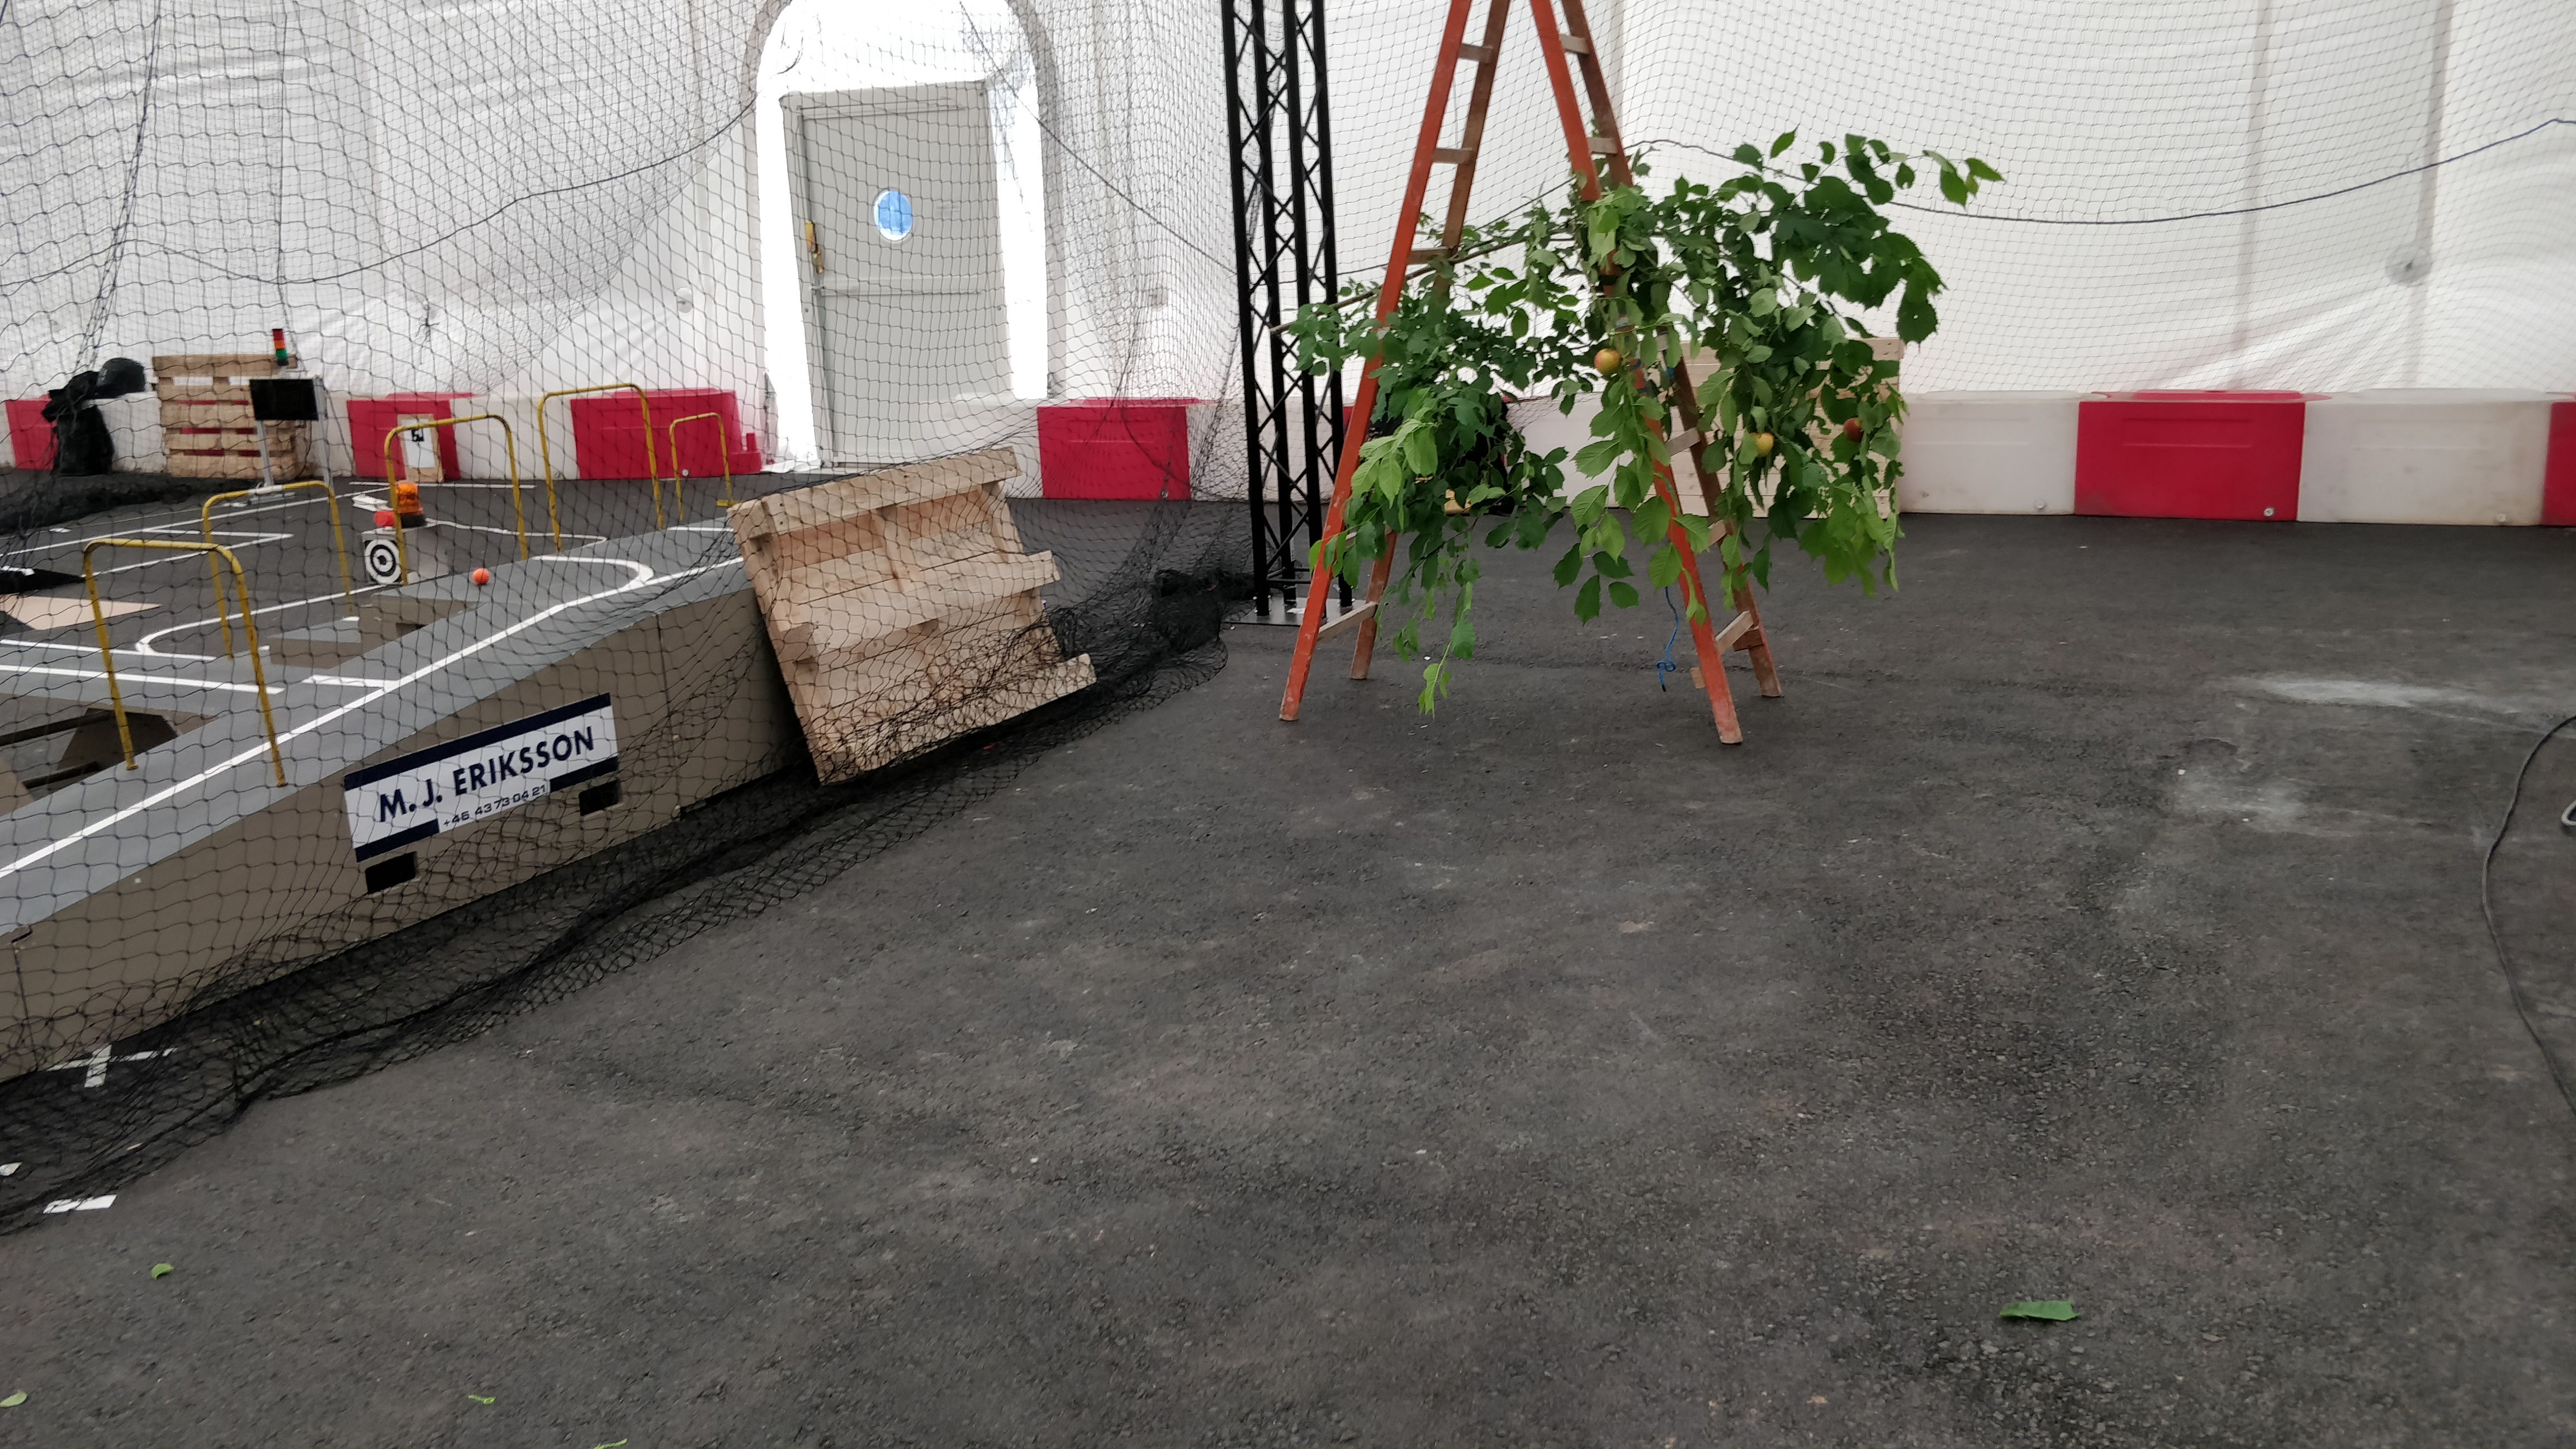apple: (1594, 349, 1621, 375), (1748, 432, 1775, 456), (1844, 418, 1865, 442)
